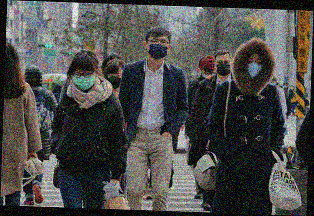with_mask: (146, 37, 169, 61), (72, 69, 95, 92), (245, 56, 264, 80), (215, 57, 232, 78), (106, 71, 123, 91), (200, 69, 217, 80), (283, 84, 288, 89)
